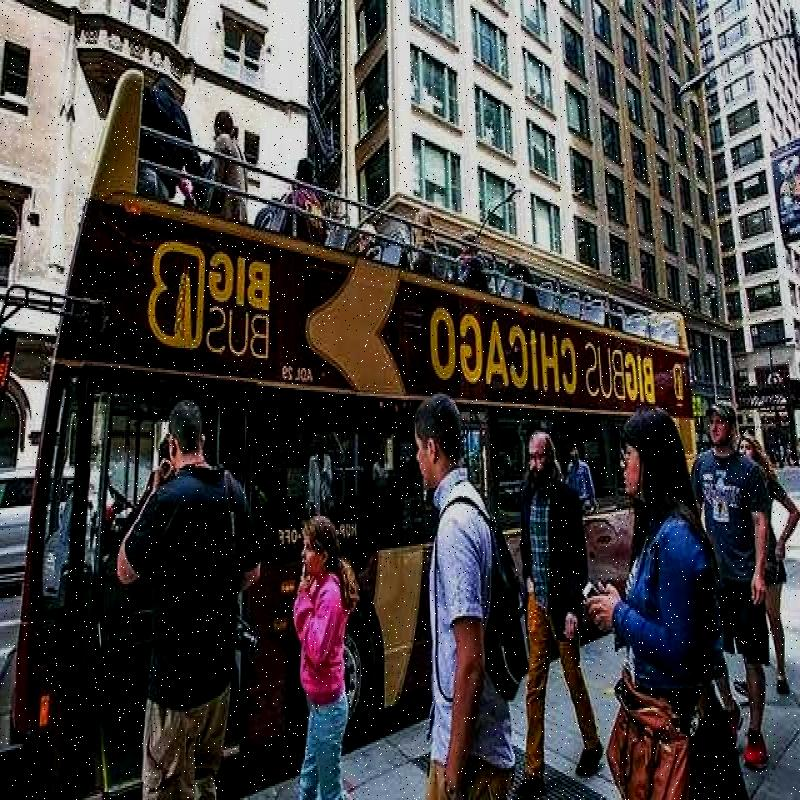bus: (5, 190, 719, 656)
